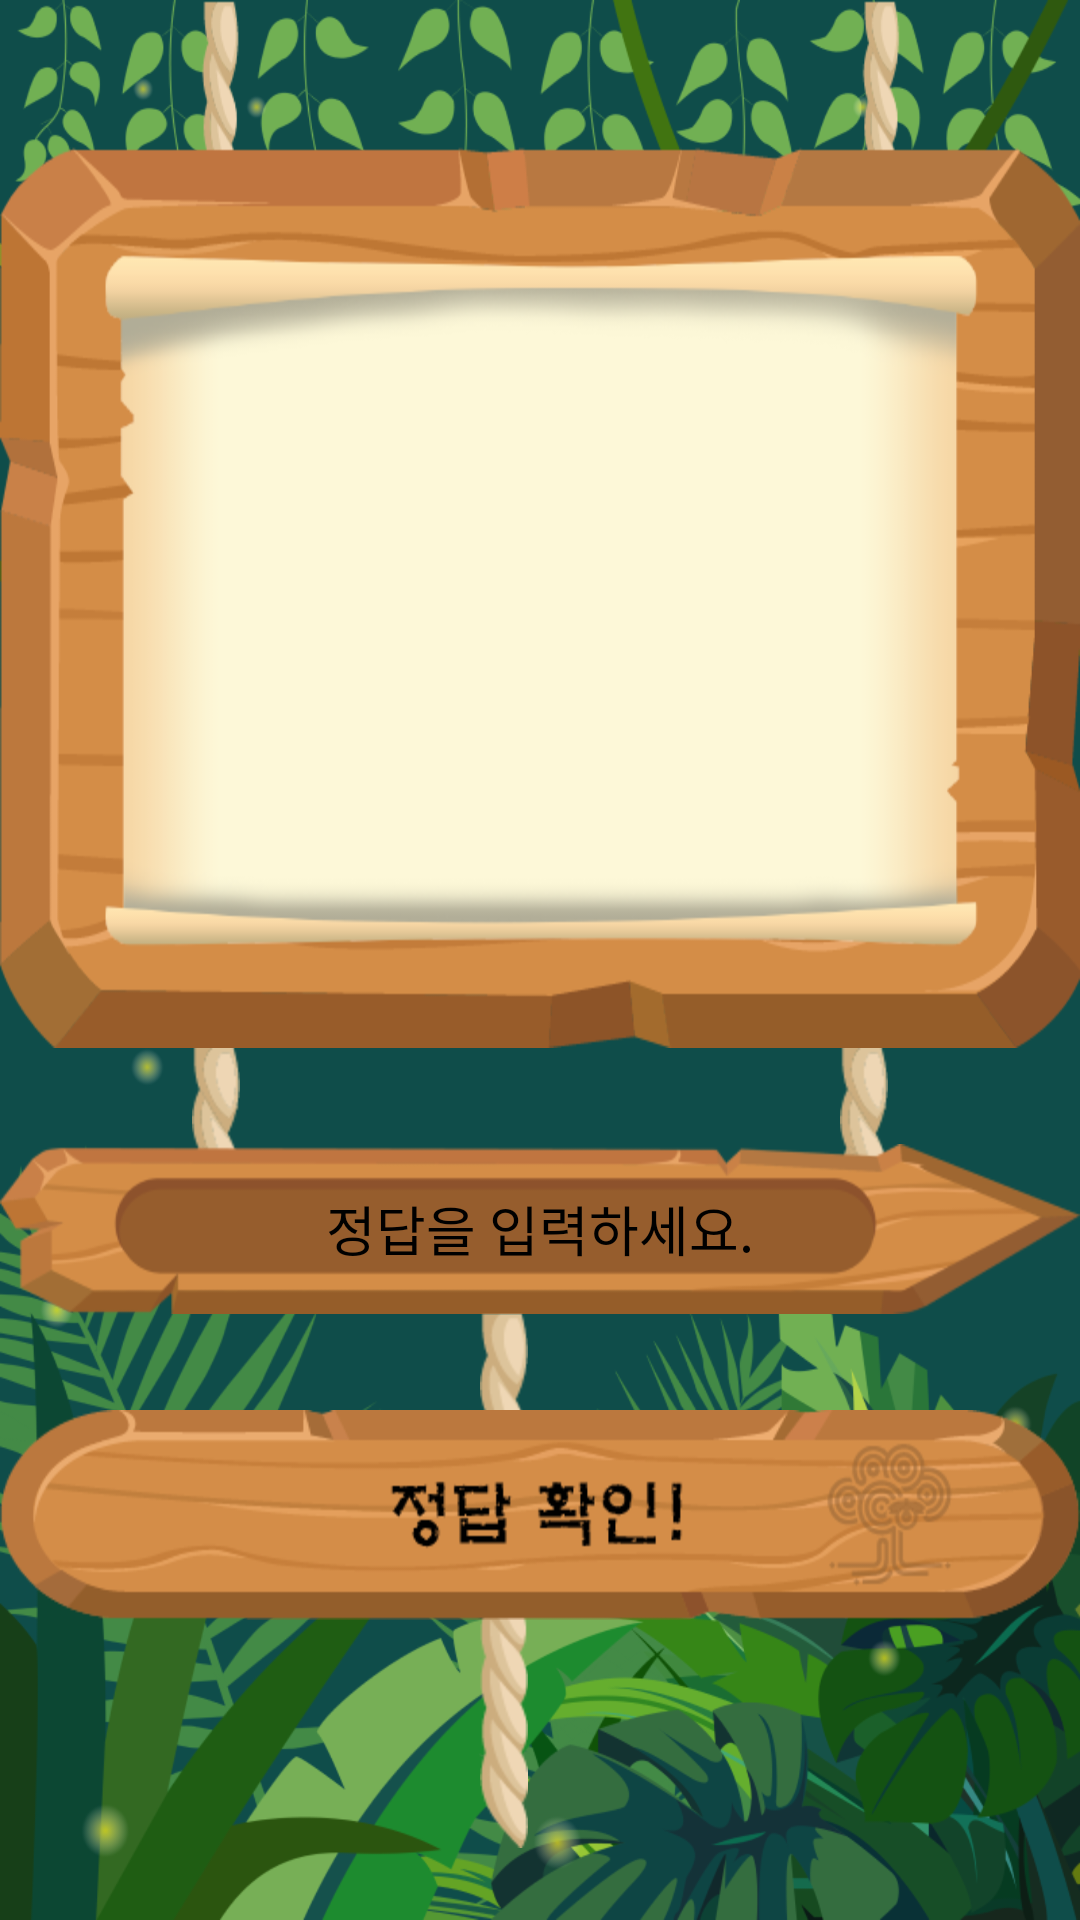

Point at icon controls on the screen. Image size 1080×1920, points as point (x, y).
rope: point (216, 1103), point (864, 1103)
